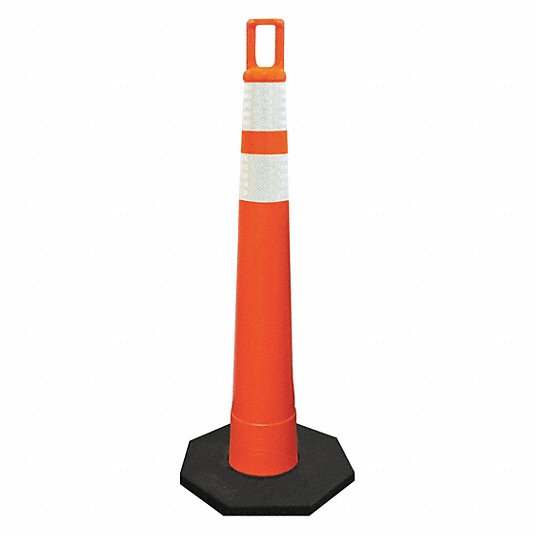Road_cone: (170, 17, 360, 521)
